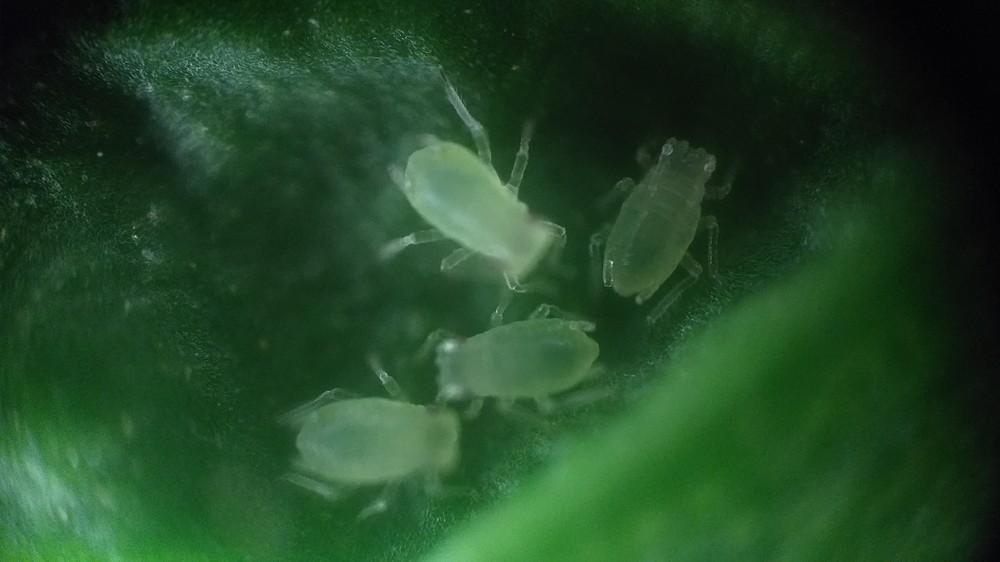Pulgon: (350, 80, 581, 303), (570, 125, 766, 337), (275, 369, 494, 518), (426, 301, 630, 422)
